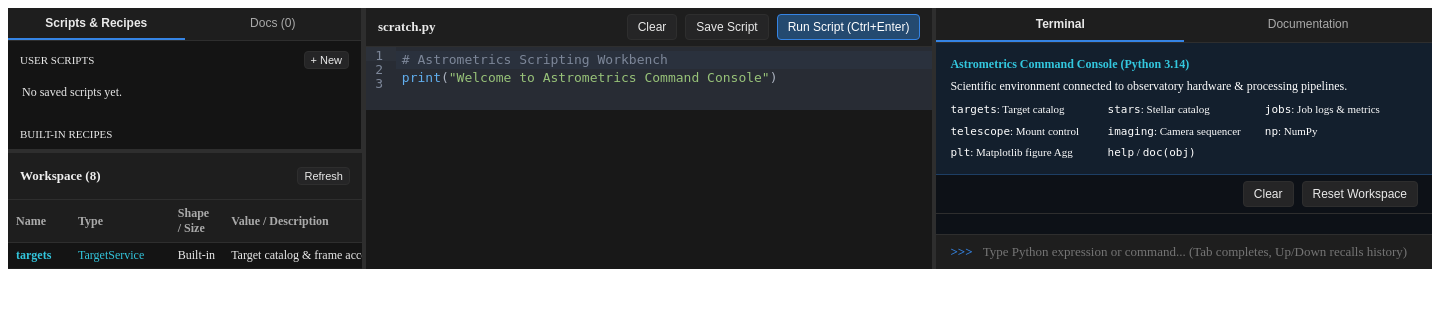
Test: CommandConsole Component › submits code to terminal REPL and receives output
Replace the text in the field with placeholder "Type Python expression or command" with "6 * 7" at (1199, 252), box 981,242 -> 1418,260
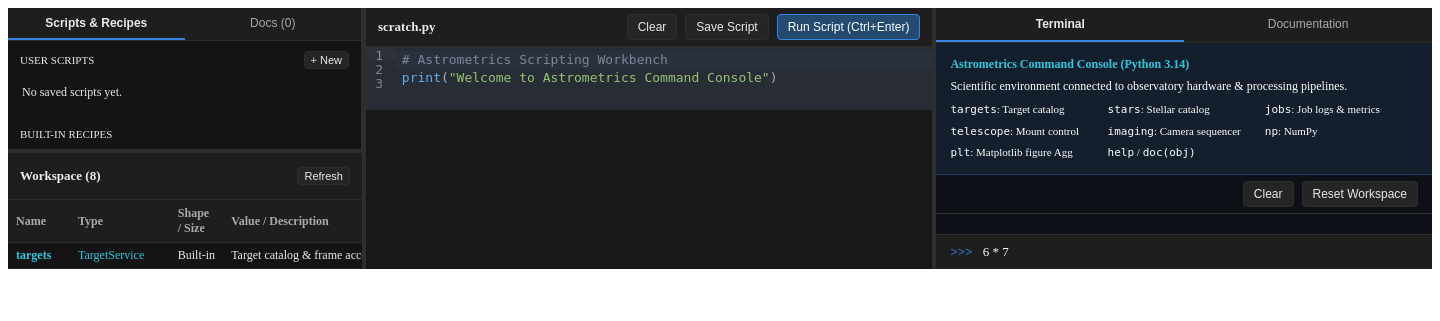
Press Enter in the field with placeholder "Type Python expression or command", box 981,242 -> 1418,260
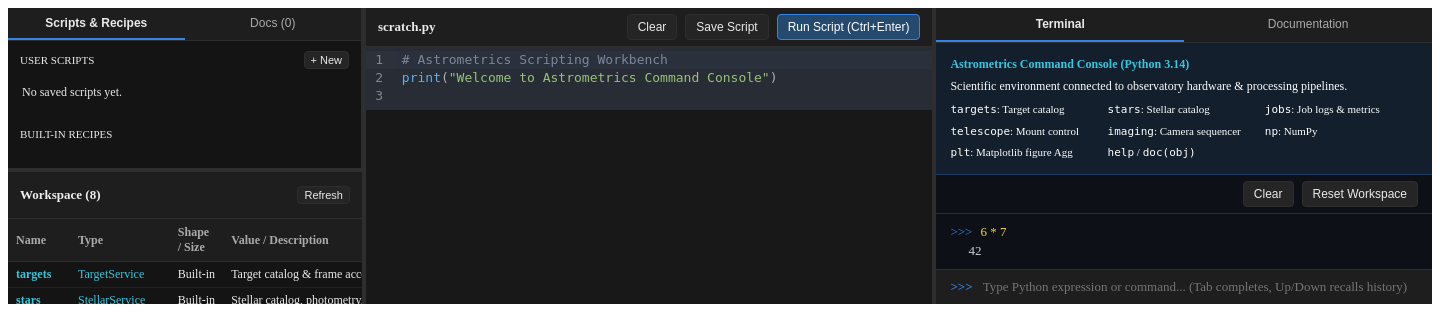
Now the text "42" is shown, box 968,242 -> 981,258
